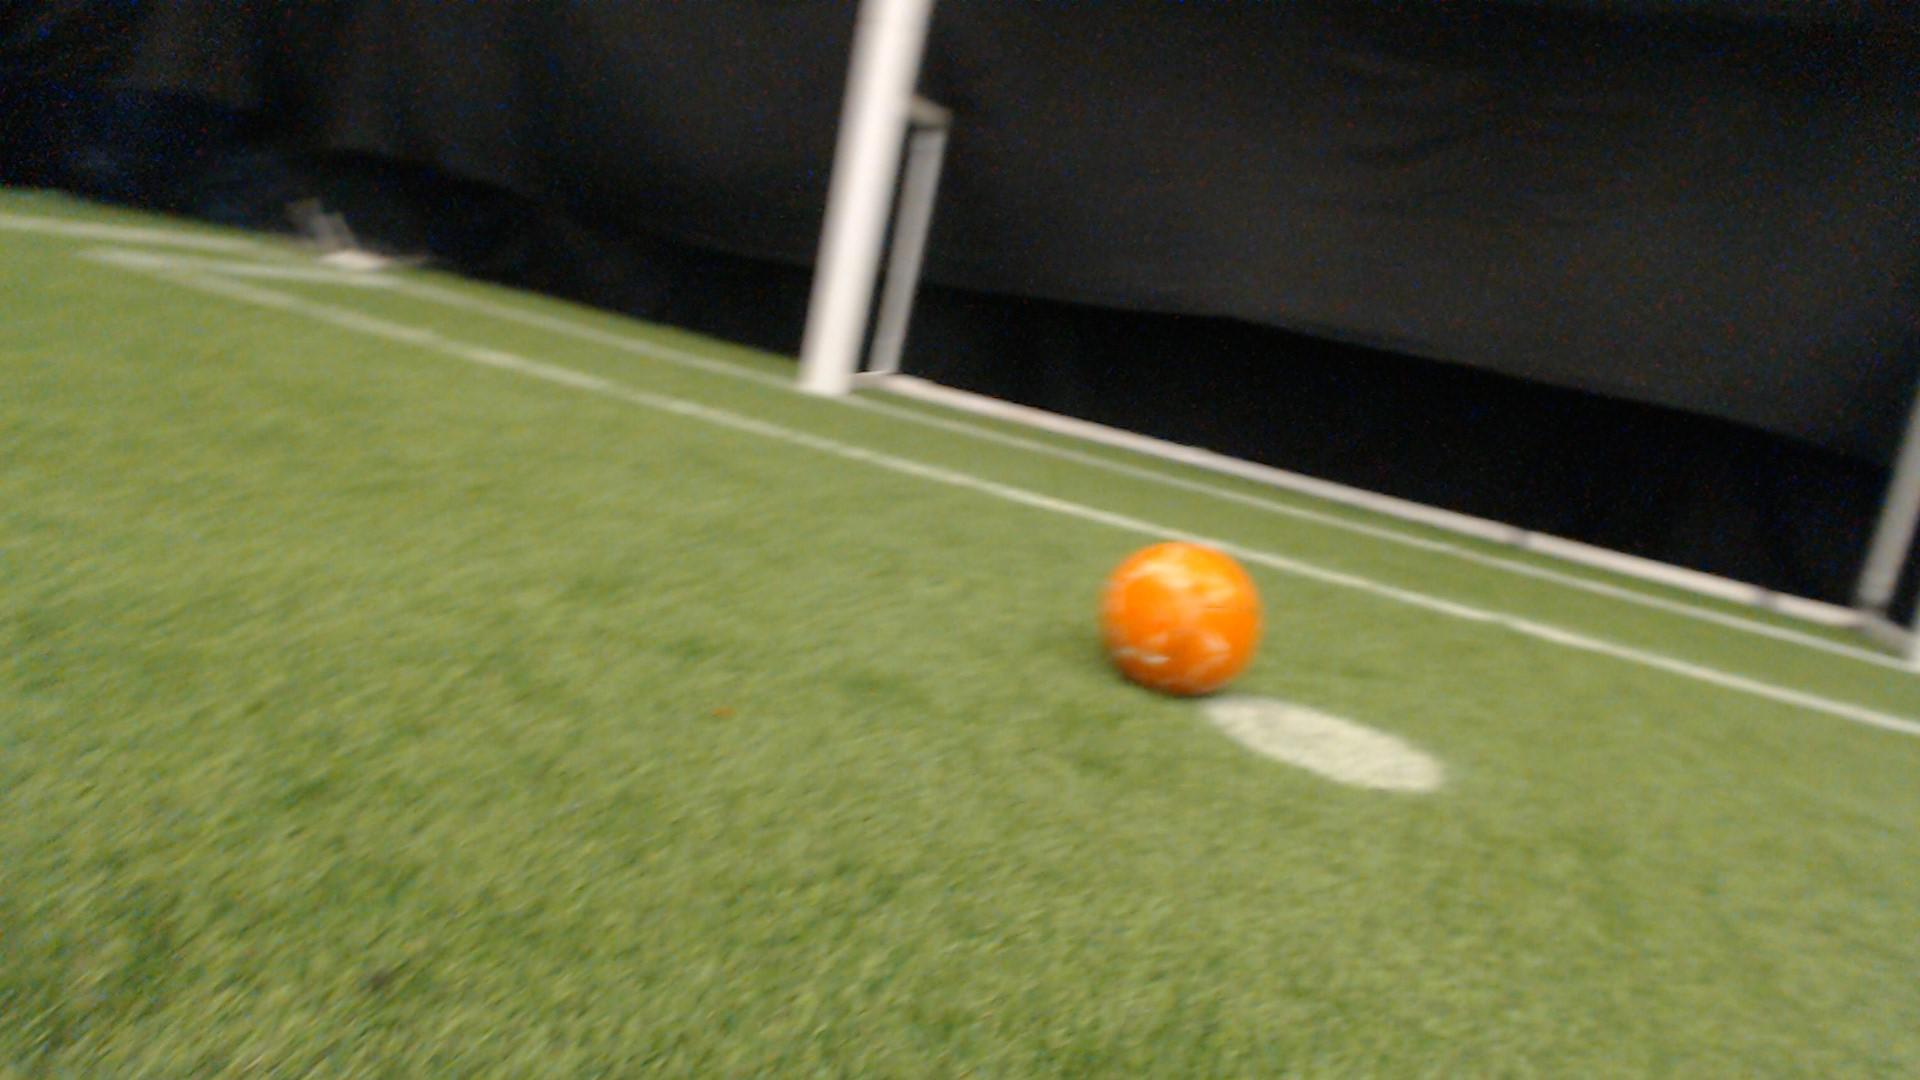bola: (1095, 522, 1276, 702)
